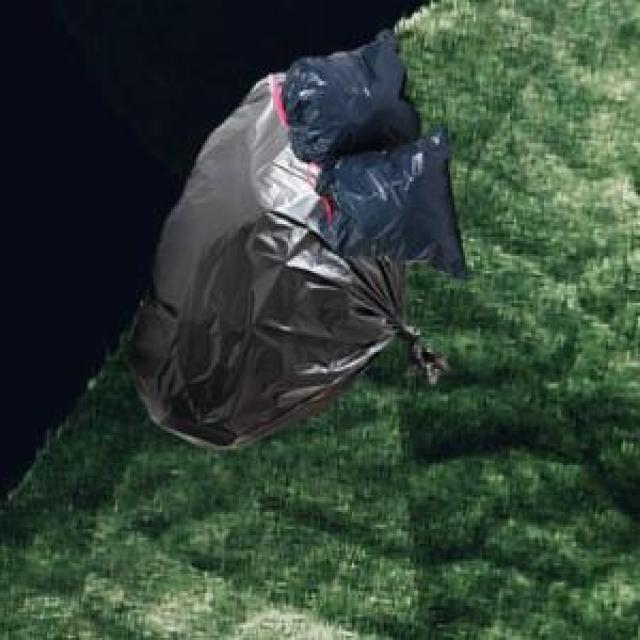waste: (138, 31, 465, 448)
